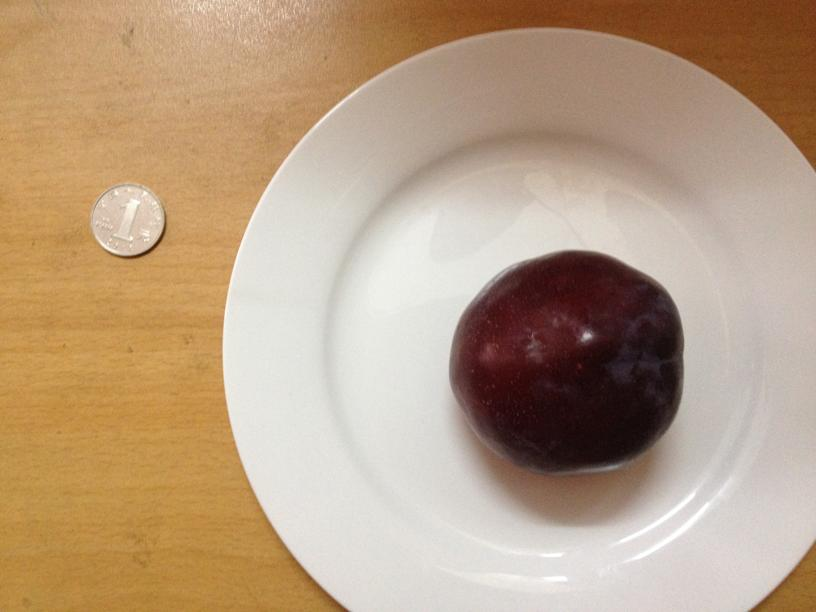coin: (87, 186, 166, 258)
plum: (453, 252, 682, 477)
